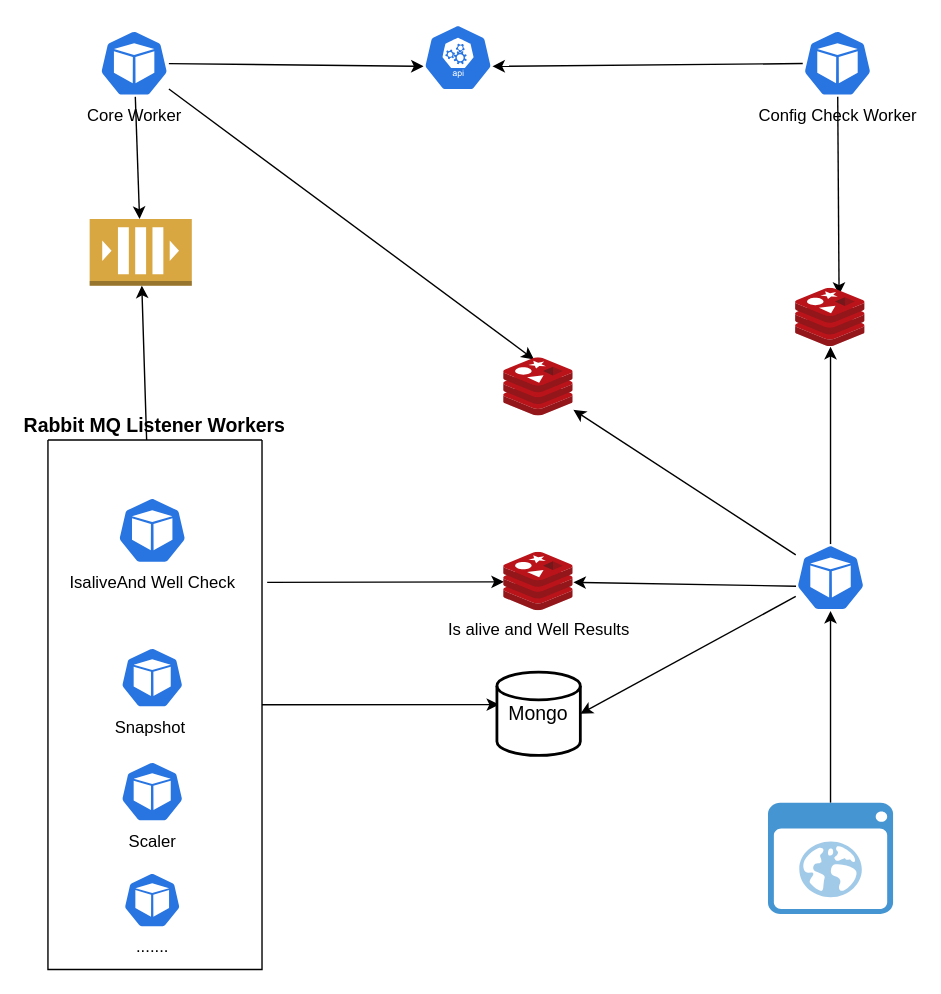
Image size: 941x994. Some labels were removed from this diagram. Each missing label, with the centre of its shape:
BFF API: [829,577]
Config Check Results: [830,317]
K8s Pods/Deployments etc...: [538,386]
RabbitMQ: [140,252]
